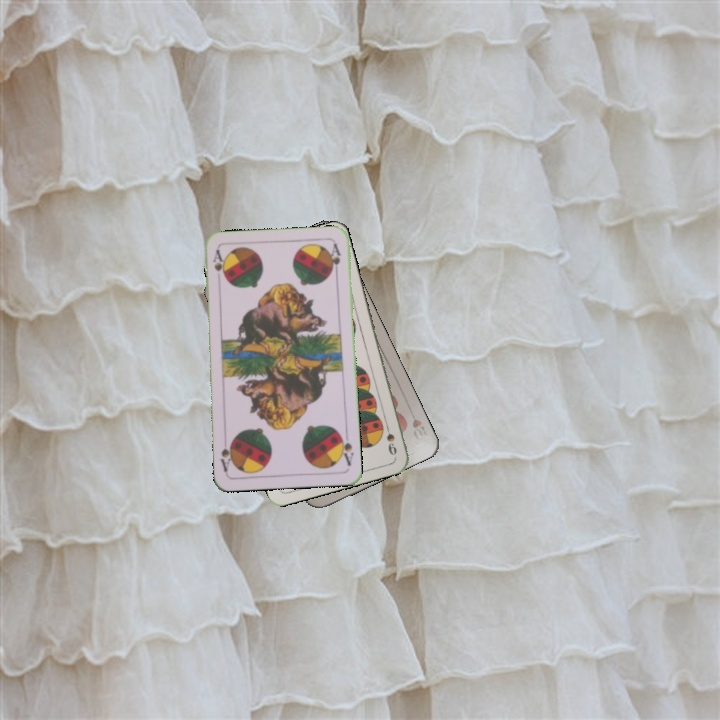H10: (408, 415, 425, 444)
S9: (381, 418, 399, 458)
SA: (336, 428, 356, 468), (209, 246, 226, 280)
